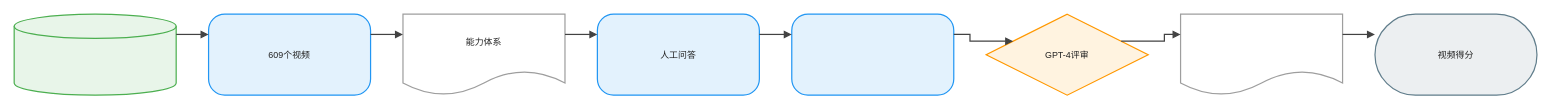
Image size: 1552x110. Some labels were removed from this diagram. The centre of each missing label's shape, as x and y in pixels:
"LVLM评测" belongs at point (1261, 54).
"开放问题" belongs at point (872, 54).
"网页视频" belongs at point (94, 54).
